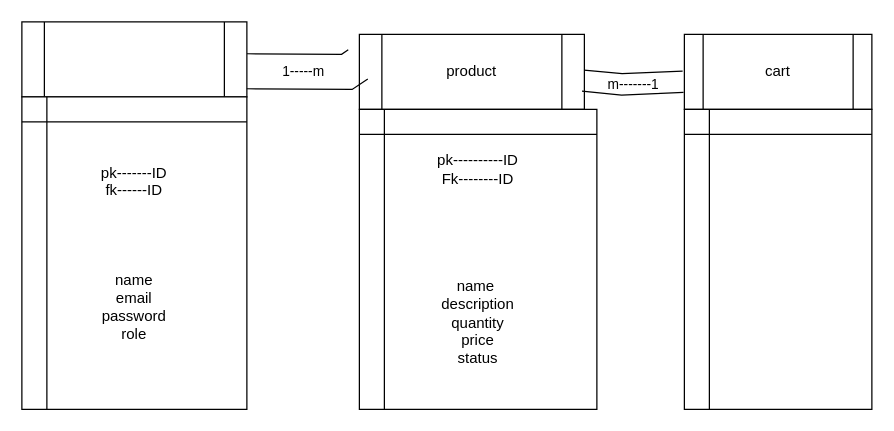
This 894x431 diagram has some shape labels left out. Each missing label, with the centre of its shape:
pk--------ID FK-----ID name description quantity price status: (777,258)
user: (134,59)
